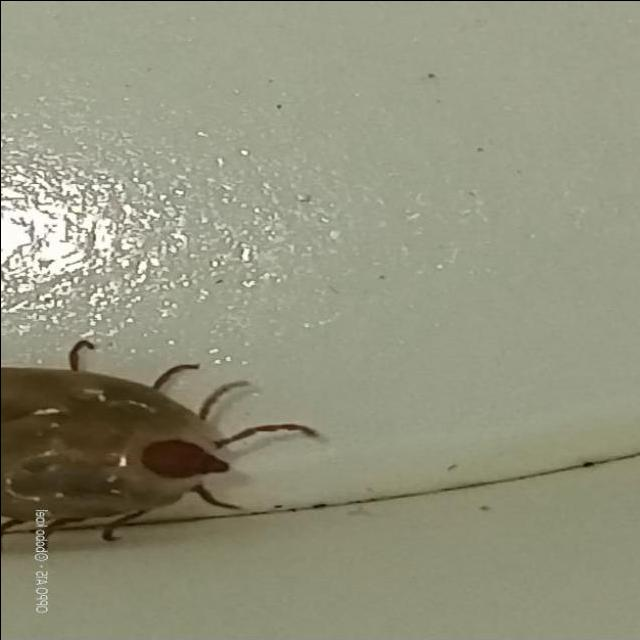Rhipicephalus Sanguineus-F-Fed: (0, 341, 319, 542)
